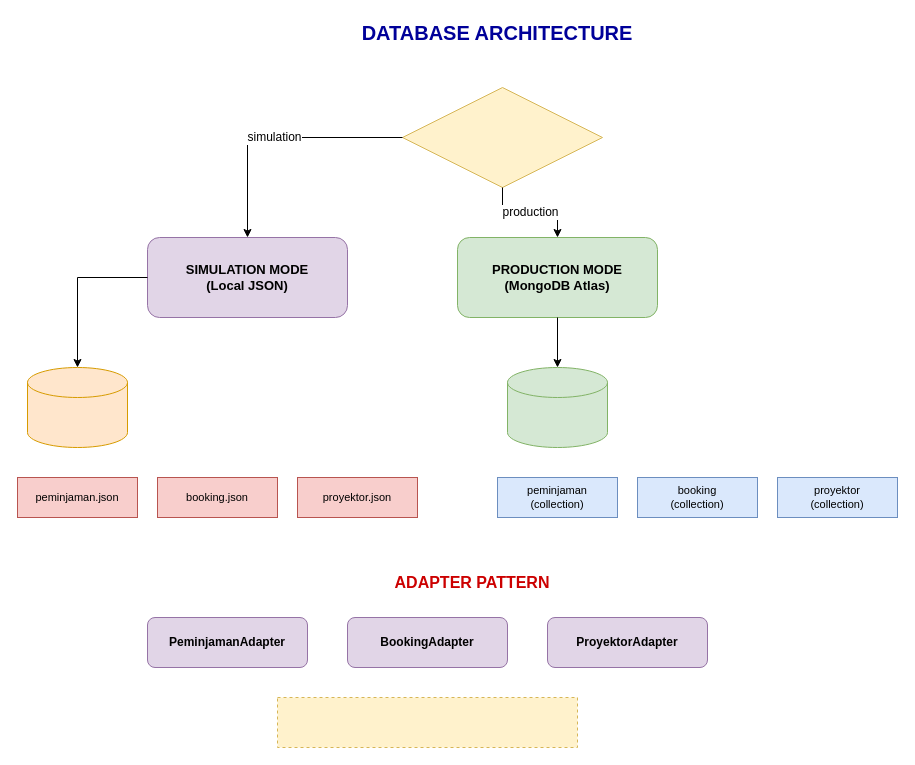
This 915x765 diagram has some shape labels left out. The centre of each missing label's shape, as x and y in pixels:
"Automatically switches between JSON (simulation) and MongoDB (production)" belongs at (x=427, y=722).
"JSON Files" belongs at (x=77, y=407).
"MongoDB Atlas" belongs at (x=557, y=407).
"NODE_ENV?" belongs at (x=502, y=137).
